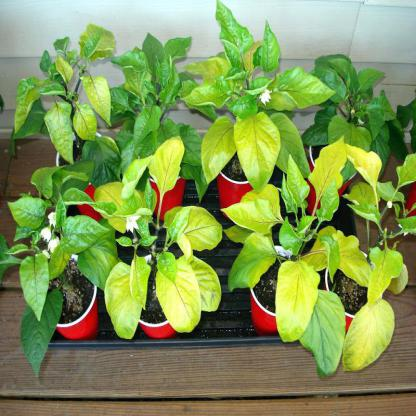Bell_pepper leaf: (276, 255, 321, 352), (230, 112, 278, 191), (102, 259, 147, 342), (347, 301, 397, 374), (158, 259, 204, 337), (170, 202, 224, 251), (149, 133, 190, 193), (307, 139, 346, 201), (367, 237, 405, 300), (343, 141, 383, 193), (203, 114, 234, 180), (85, 75, 114, 132)
